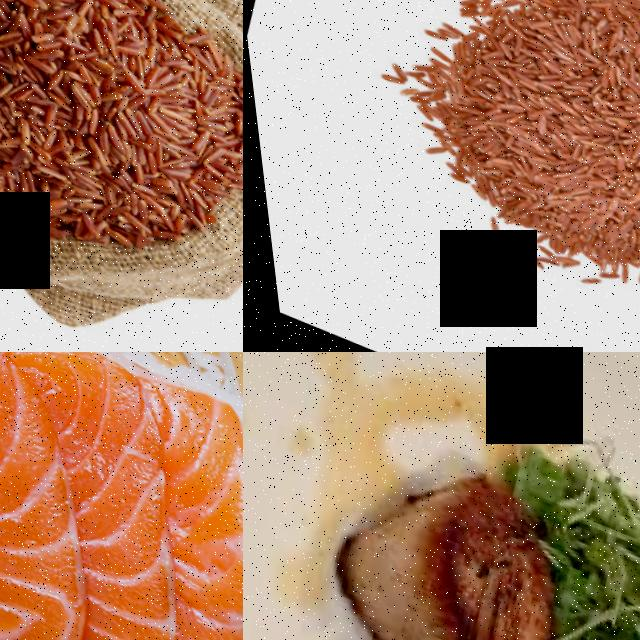red rice: (319, 0, 640, 322), (0, 0, 243, 287)
salmon: (0, 501, 243, 640), (100, 366, 243, 586), (0, 352, 85, 562)
sea scallops: (292, 435, 583, 640)
